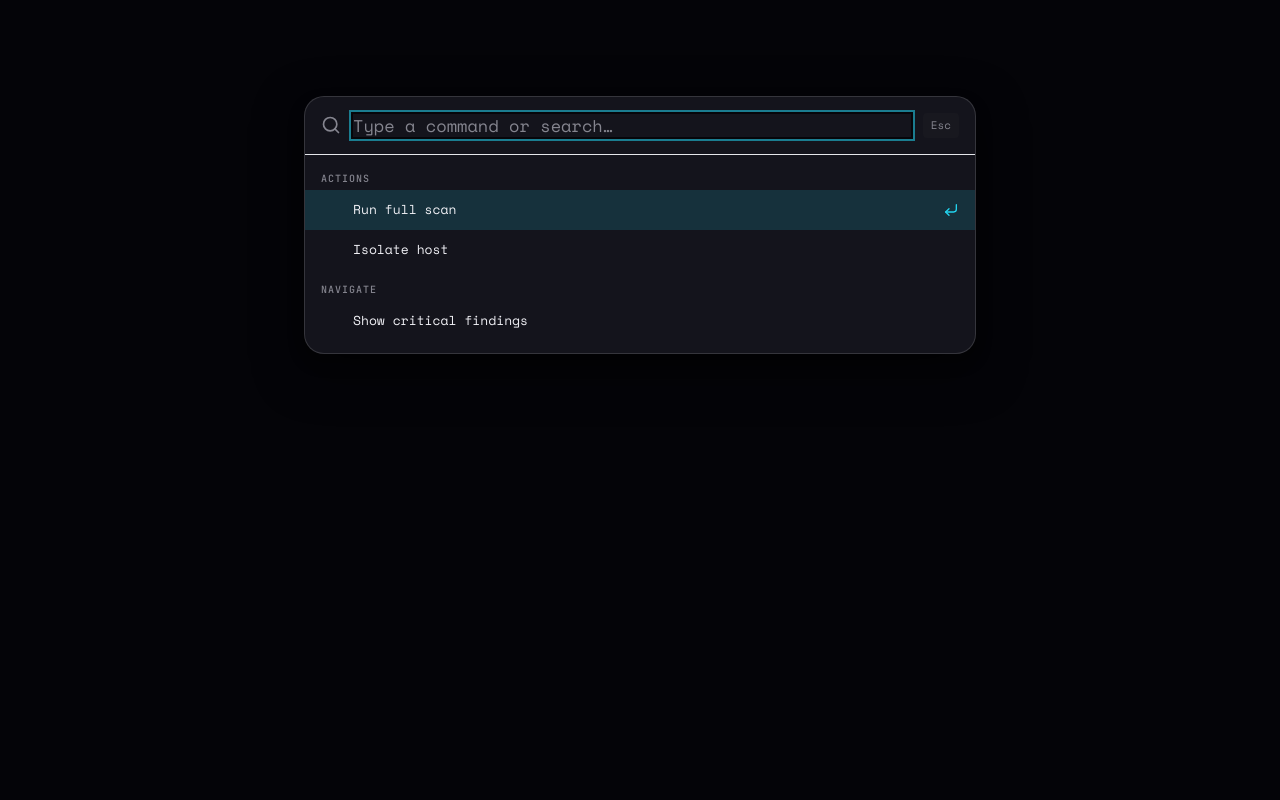
Test: CommandBar › filters the list as the query narrows
The image size is (1280, 800).
Type "isolate" into the dropdown.
click(632, 125); type("isolate")  # box [353,114,911,137]
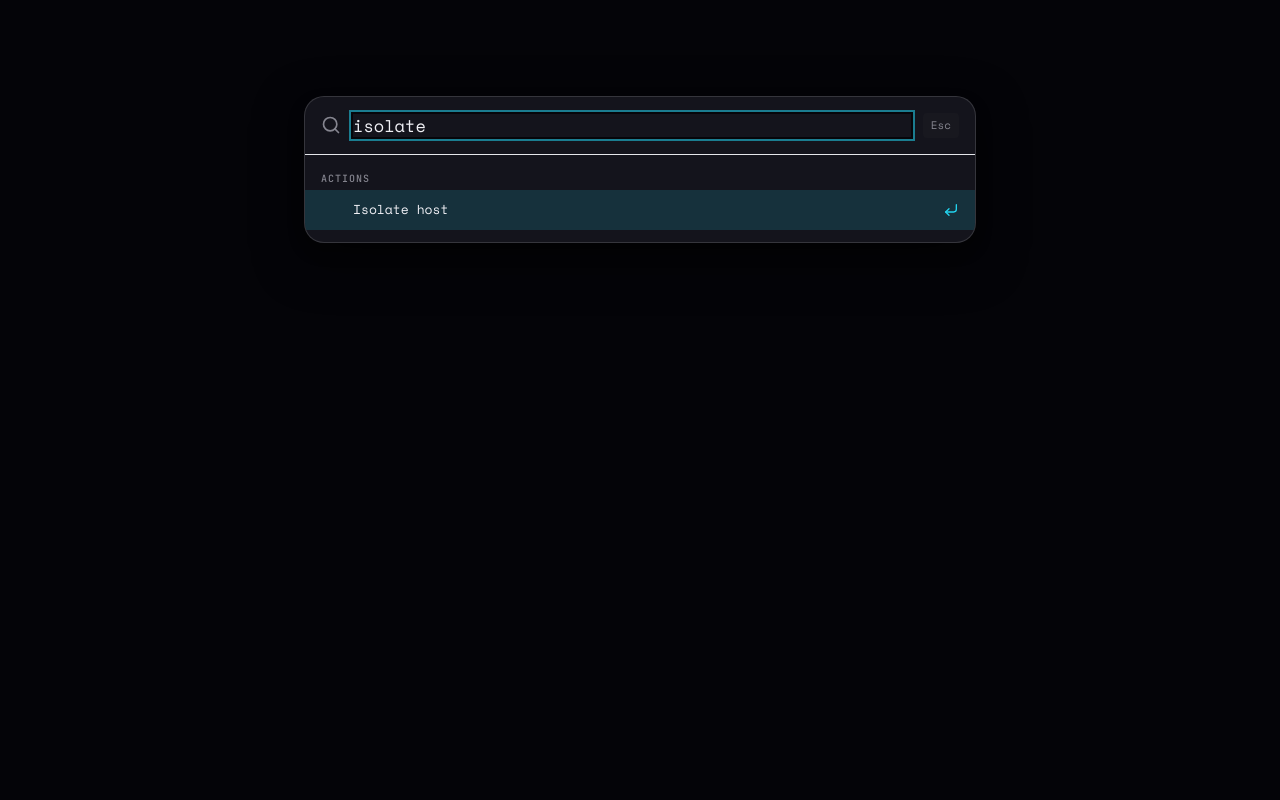
expect the text "Isolate host" is shown: met, box [353,199,448,219]
expect the option "Run full scan" is gone: met
